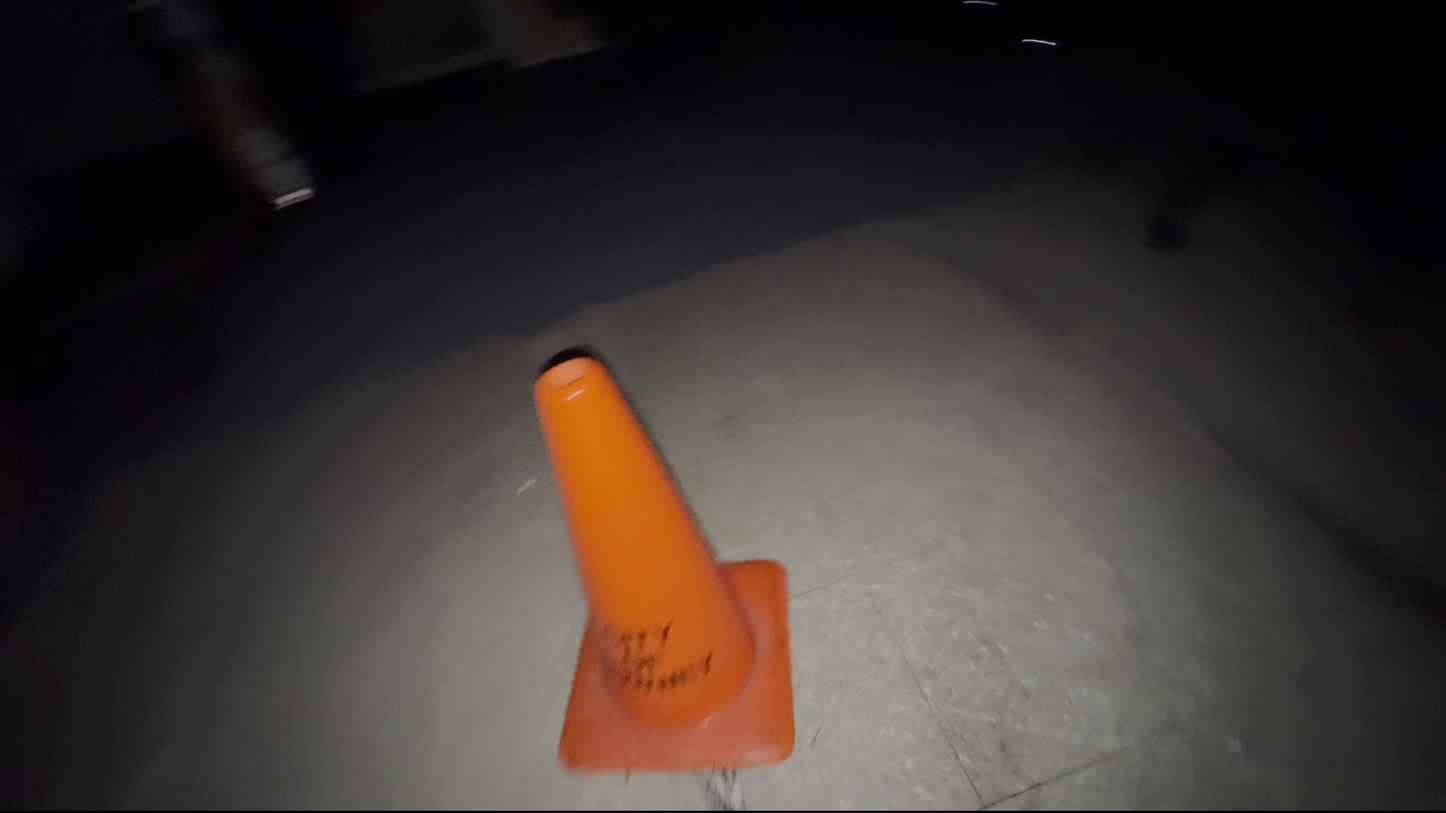traffic_cone: (531, 348, 796, 775)
